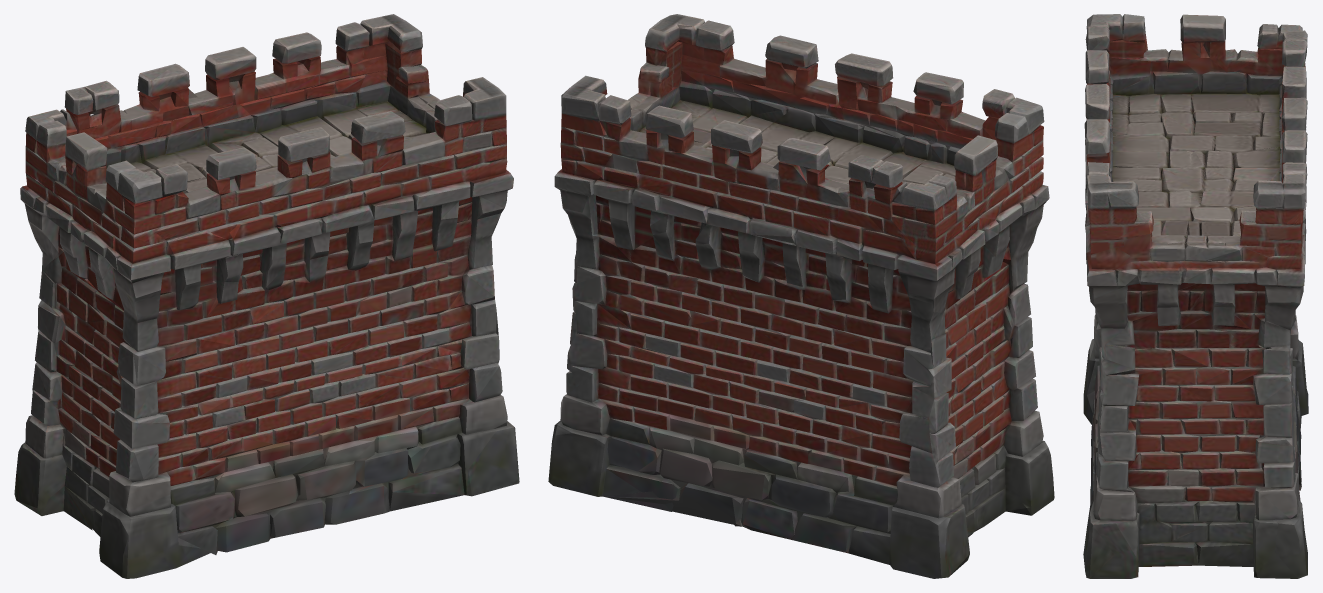
File: wallseg.glb
3 renders of one model, left to right at view 1: azimuth 30°, elevation 25°; view 2: azimuth 150°, elevation 25°; view 3: azimuth 270°, elevation 25°, orthographic. The views are drawn at different scales.
Size of the model in its own units: 1.9 by 1.8 by 0.9545.
1 material, 1 textured.
